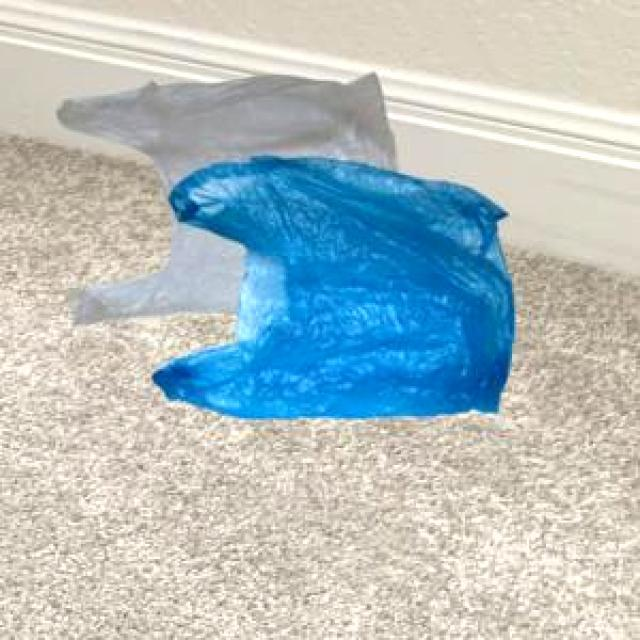Plastic_Bag: (148, 154, 511, 416), (53, 69, 394, 321)
